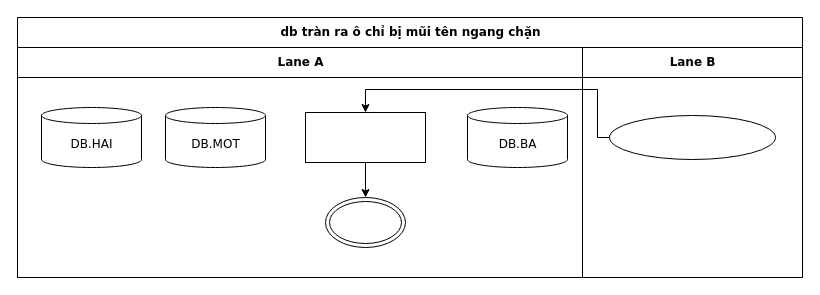
The diagram is 820 pixels wide and 295 high, and some of its shapes have lost their labels. The centre of each missing label's shape, as x and y in pixels:
Nhận: the point at 365,137
Vào từ lane phải: the point at 692,137
Xong: the point at 365,222
